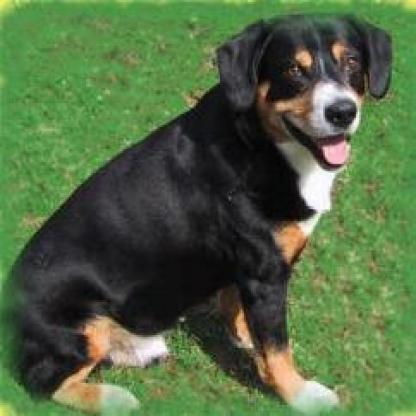EntleBucher: (0, 0, 395, 412)
